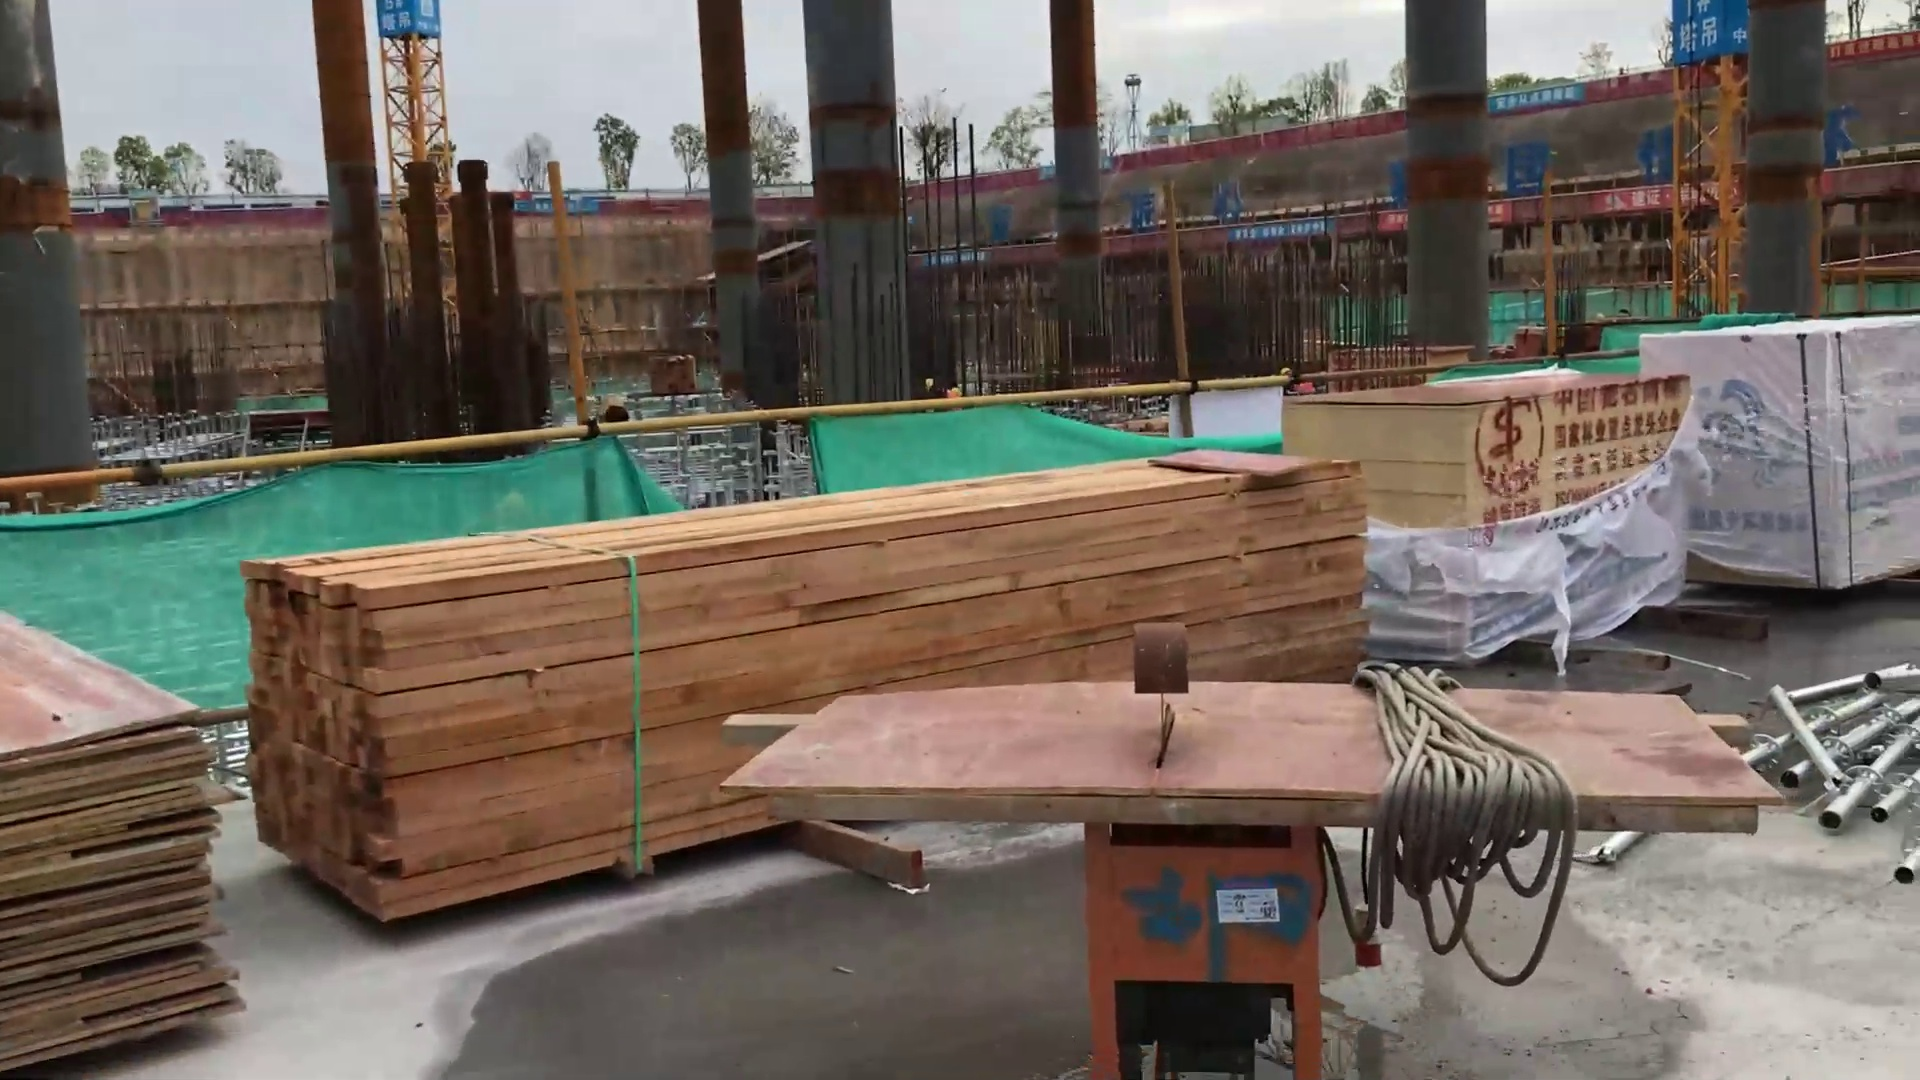board: (1, 528, 256, 1071)
brick: (1684, 347, 1920, 563)
cutter: (788, 712, 1852, 1080)
helmet: (924, 379, 934, 392), (1281, 367, 1290, 376)
person: (921, 374, 974, 403), (1280, 362, 1321, 395)
vest: (938, 382, 963, 407), (1290, 379, 1315, 392)
wood: (249, 439, 1341, 931)
